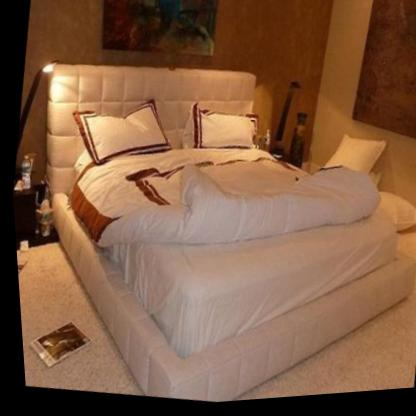Bed: (41, 66, 413, 405)
Carpet: (230, 306, 416, 404)
